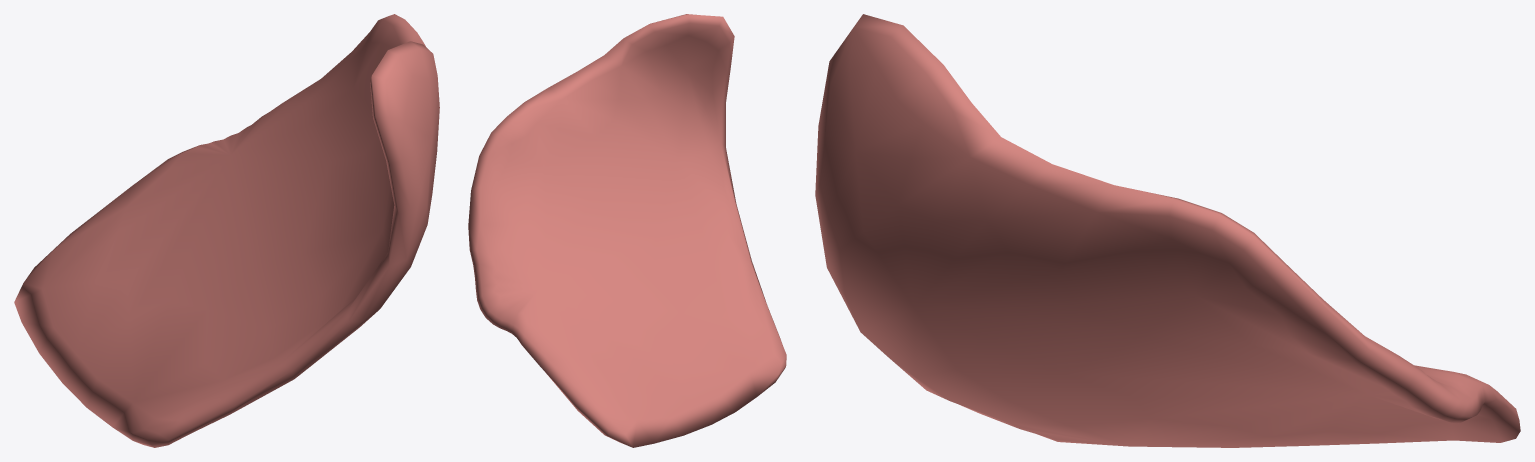
3 views of the same model, side by side, from view 1: azimuth 30°, elevation 25°; view 2: azimuth 150°, elevation 25°; view 3: azimuth 270°, elevation 25° (orthographic). The views are drawn at different scales.
Parts seen in each view (by area): view 1: ZA_bc52cdd8eaec28fb; view 2: ZA_bc52cdd8eaec28fb; view 3: ZA_bc52cdd8eaec28fb.
Boxes of the visible parts, bbox=[...] form: ZA_bc52cdd8eaec28fb: bbox=[14, 14, 439, 447]; ZA_bc52cdd8eaec28fb: bbox=[468, 14, 786, 447]; ZA_bc52cdd8eaec28fb: bbox=[815, 14, 1520, 447].
Size of the model in its own units: 0.00666 by 0.00786 by 0.00939.
